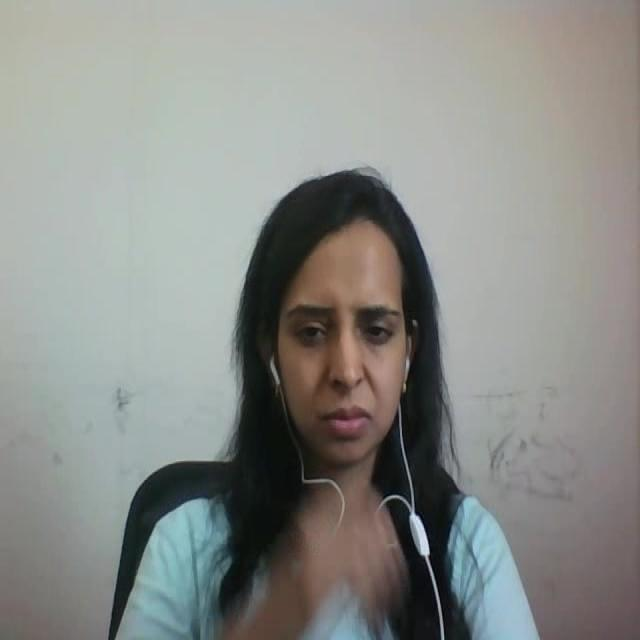Bored: (238, 154, 434, 481)
